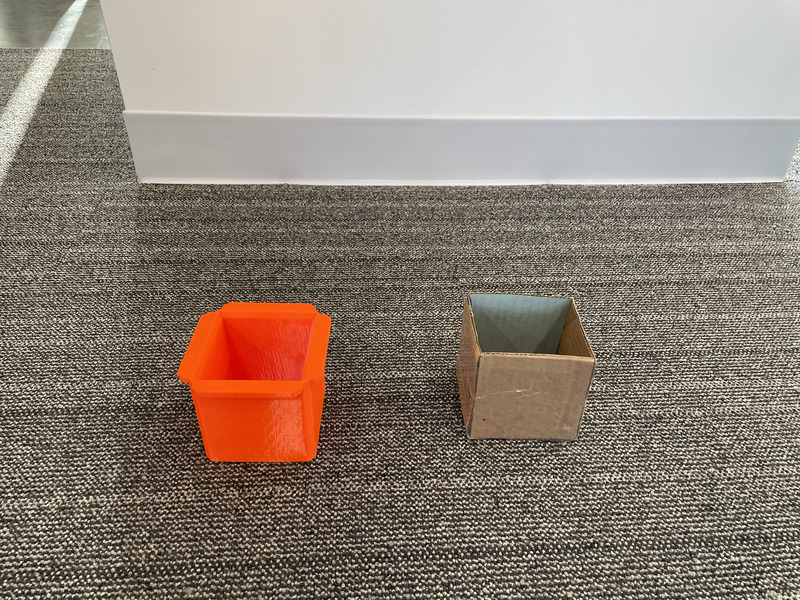payload1: (173, 297, 346, 471)
payload3: (451, 281, 604, 456)
